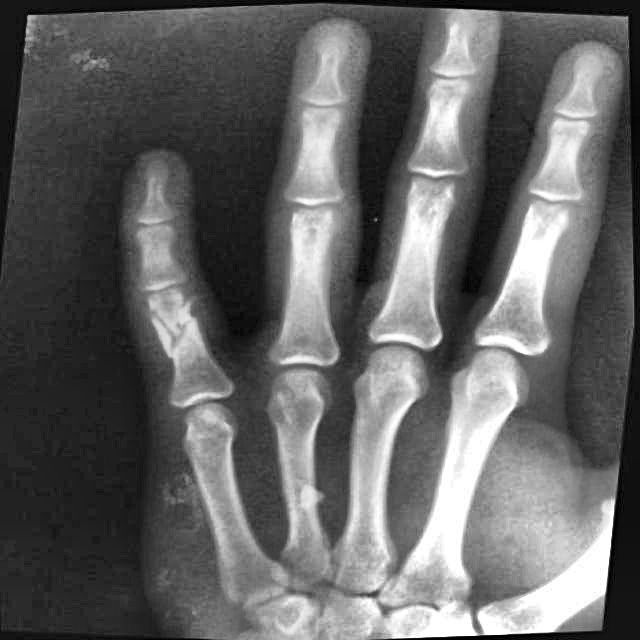Comminuted: (127, 282, 205, 348)
